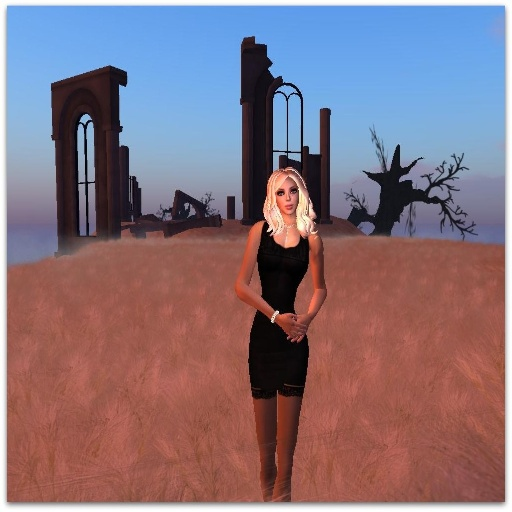hand: (285, 315, 306, 342)
